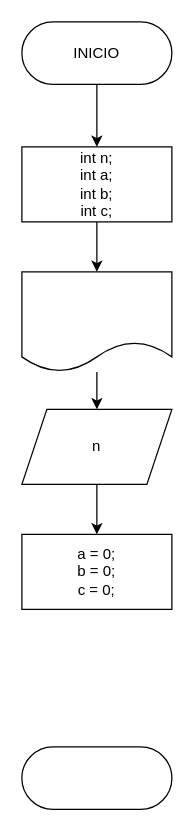
Image size: 194x831. Some labels were removed from this diagram. Here are the shapes that lost their labels. From the top down, the box of each, then its label:
(21, 271, 172, 372): "Ingrese el Numero"
(21, 746, 172, 809): FIN
